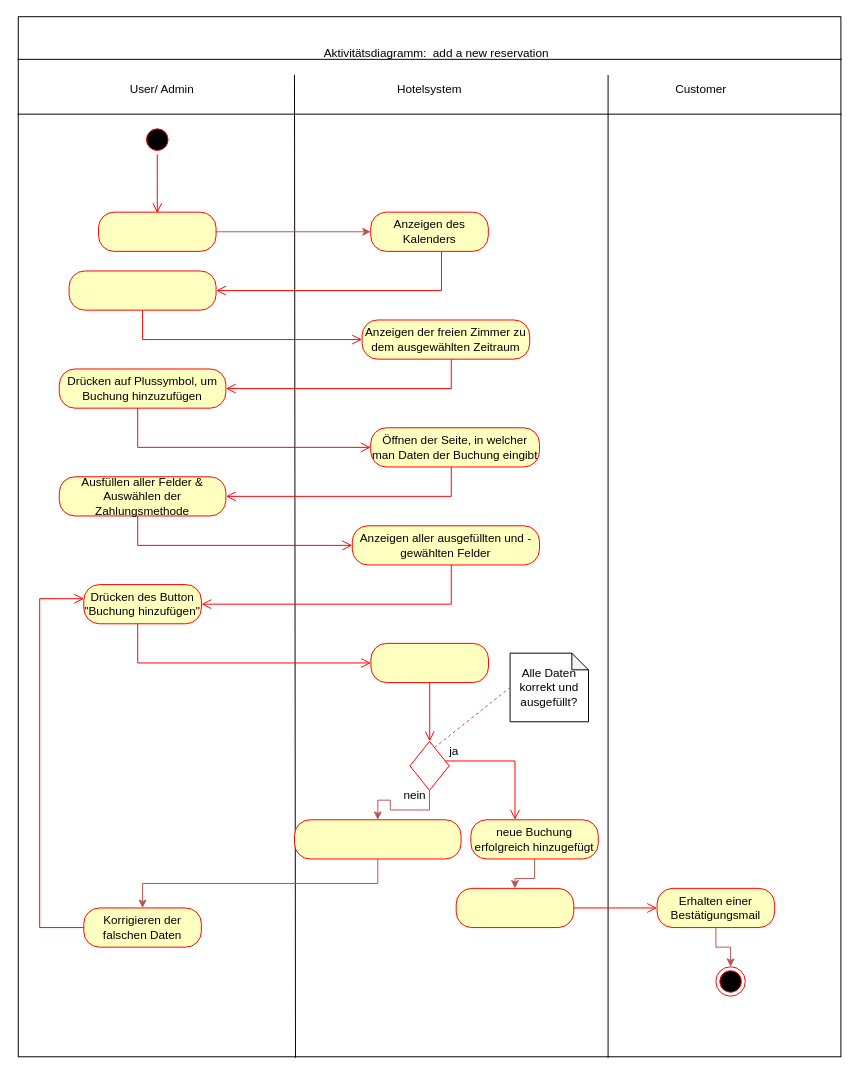
Some shapes in this 860 by 1077 pixel diagram are drawn without their labels. Here are the shapes that lost their labels. From the top down, the centre of each, then its label:
point 157,231: Öffnen des "Übersichtskalenders"
point 142,290: Zeitraum für die neue Buchung auswählen
point 429,662: Überprüfen aller Buchungsdetails
point 377,839: Anzeigen einer Fehlermeldung & Aufforderung falsche Daten zu korrigieren
point 514,907: Bestätigungsmail an Kunden versenden
